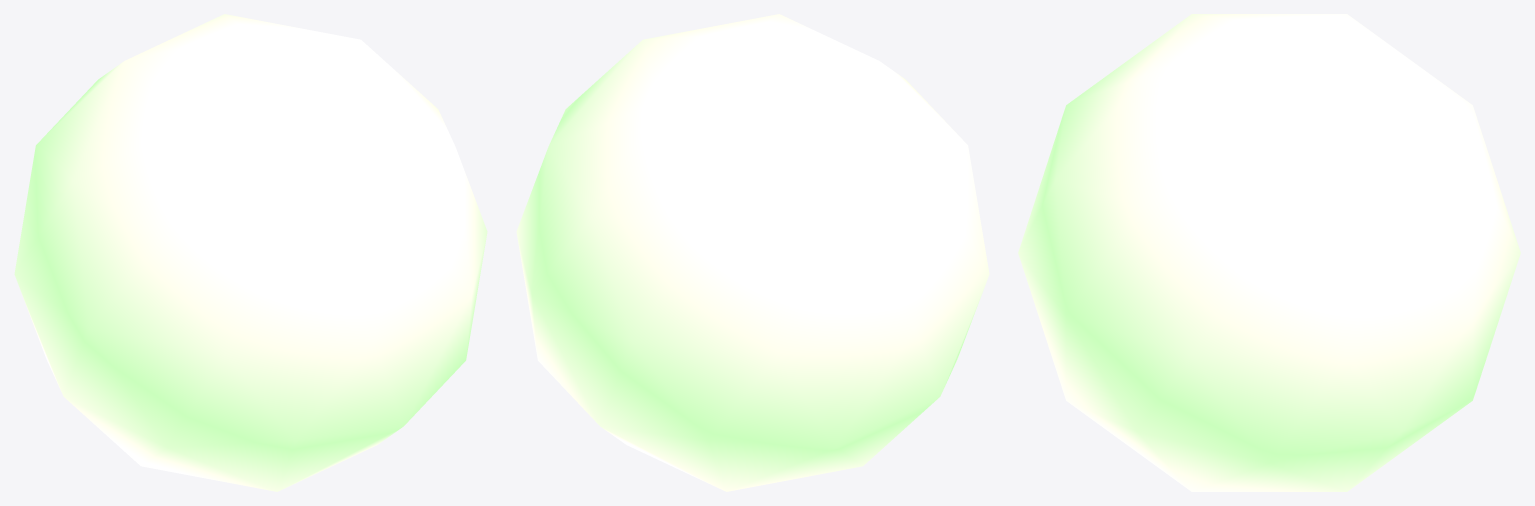
The model's file is guardian_ball.gltf.
3 renders of one model, left to right at view 1: azimuth 30°, elevation 25°; view 2: azimuth 150°, elevation 25°; view 3: azimuth 270°, elevation 25°, orthographic. The views are drawn at different scales.
Visible parts, largest first — view 1: guardian_ball; view 2: guardian_ball; view 3: guardian_ball.
Boxes of the visible parts, <box> form: guardian_ball: <box>14,14,487,491</box>; guardian_ball: <box>516,14,989,491</box>; guardian_ball: <box>1018,14,1520,491</box>.
Bounding box in the file's own units: 0.4565 × 0.48 × 0.48.
